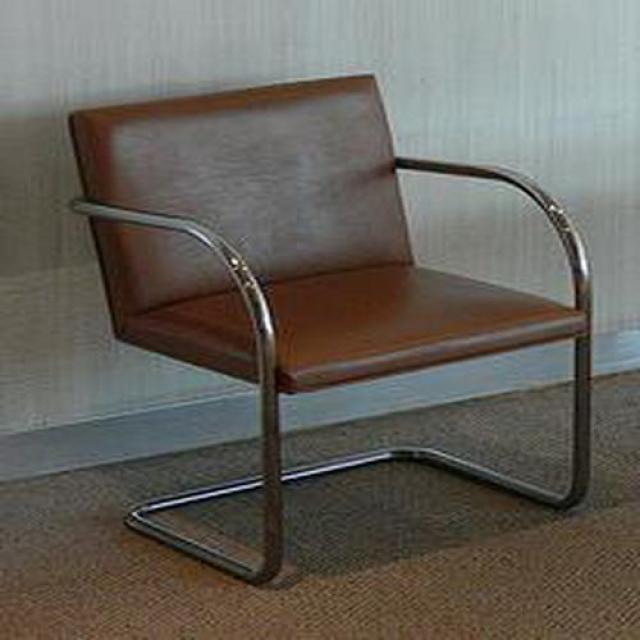chair: (67, 74, 593, 589)
